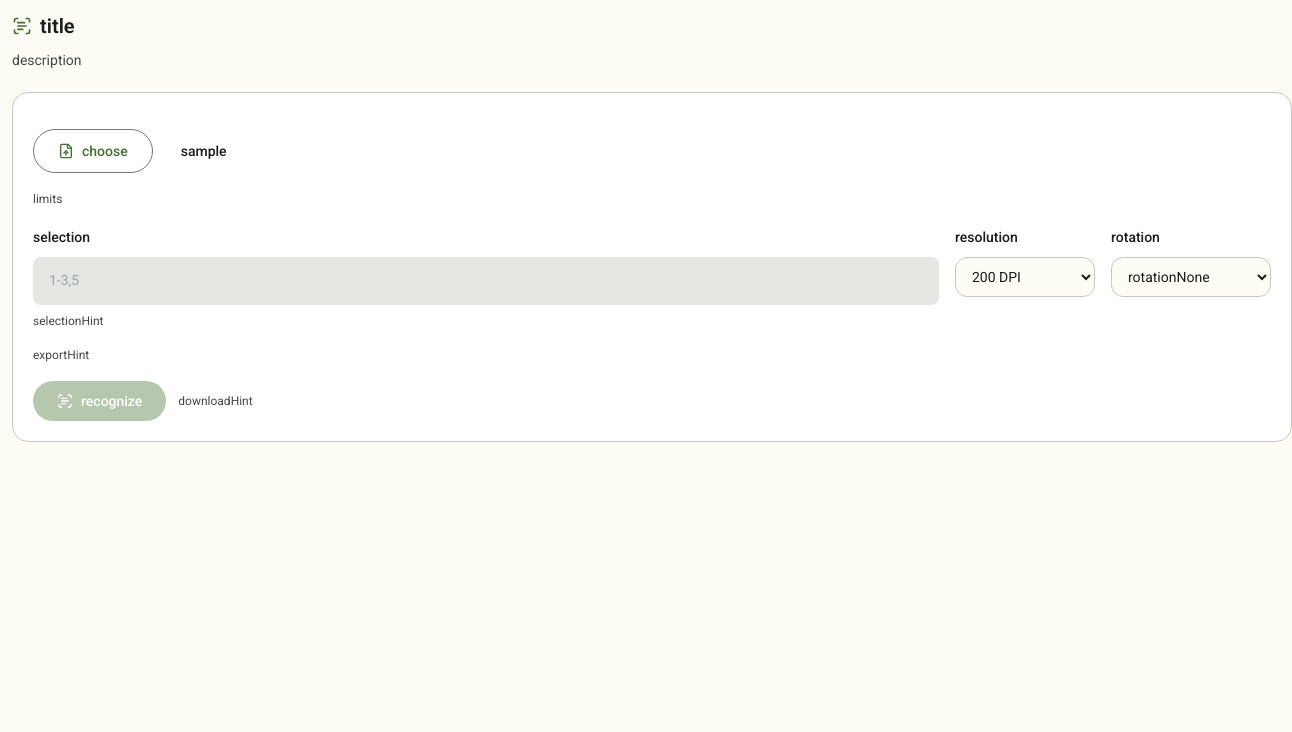
PDF OCR review › explains an oversized source scan and offers no export
The image size is (1292, 732).
Step 1. Click the button "sample" → click(204, 151), box x1=165 y1=133 x2=243 y2=169
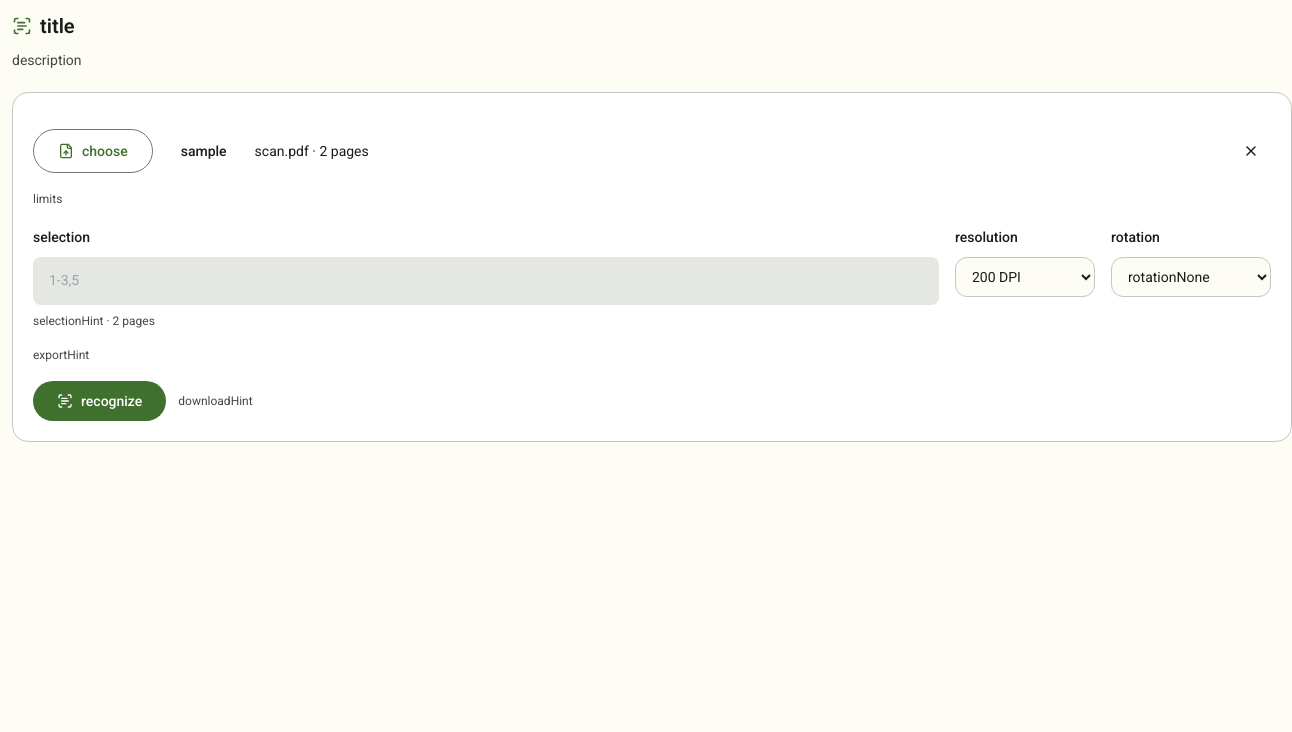
Expected: the button "recognize" is enabled
Step 2. Click the button "recognize" → click(100, 401), box x1=33 y1=381 x2=166 y2=421
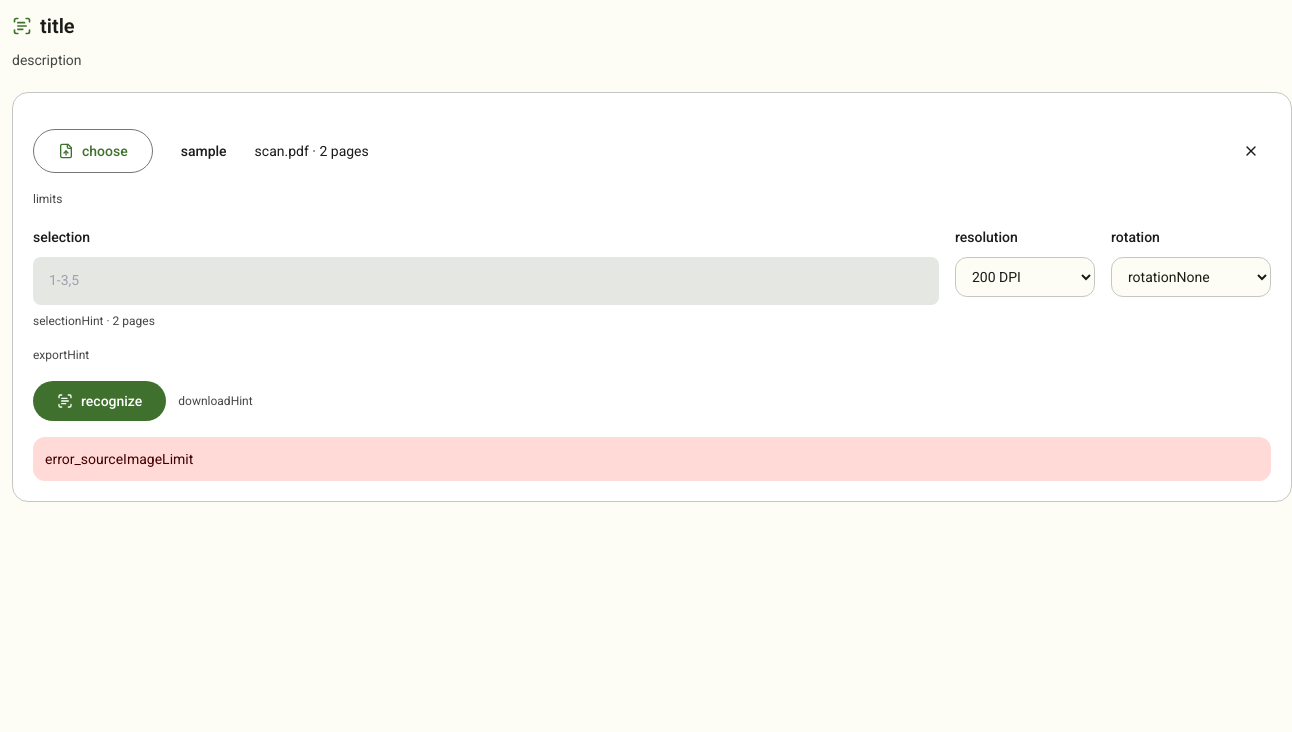
Expected: the message reads "error_sourceImageLimit", x1=45 y1=451 x2=193 y2=467
